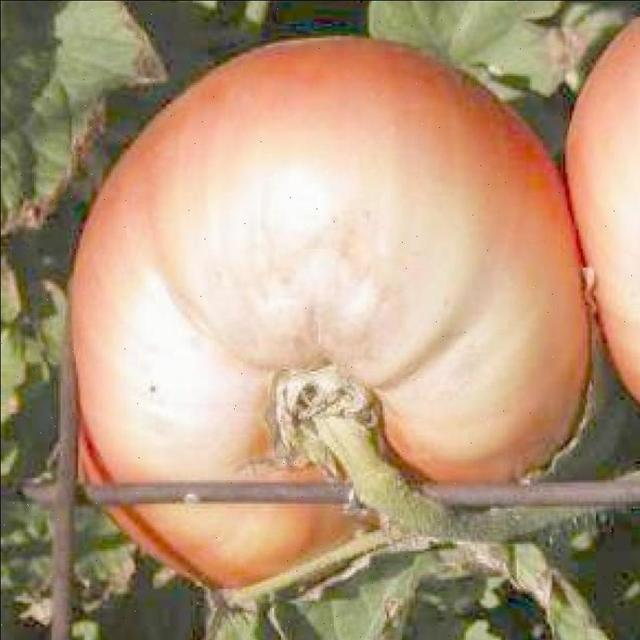Sunscald Fruit: (63, 92, 351, 326)
